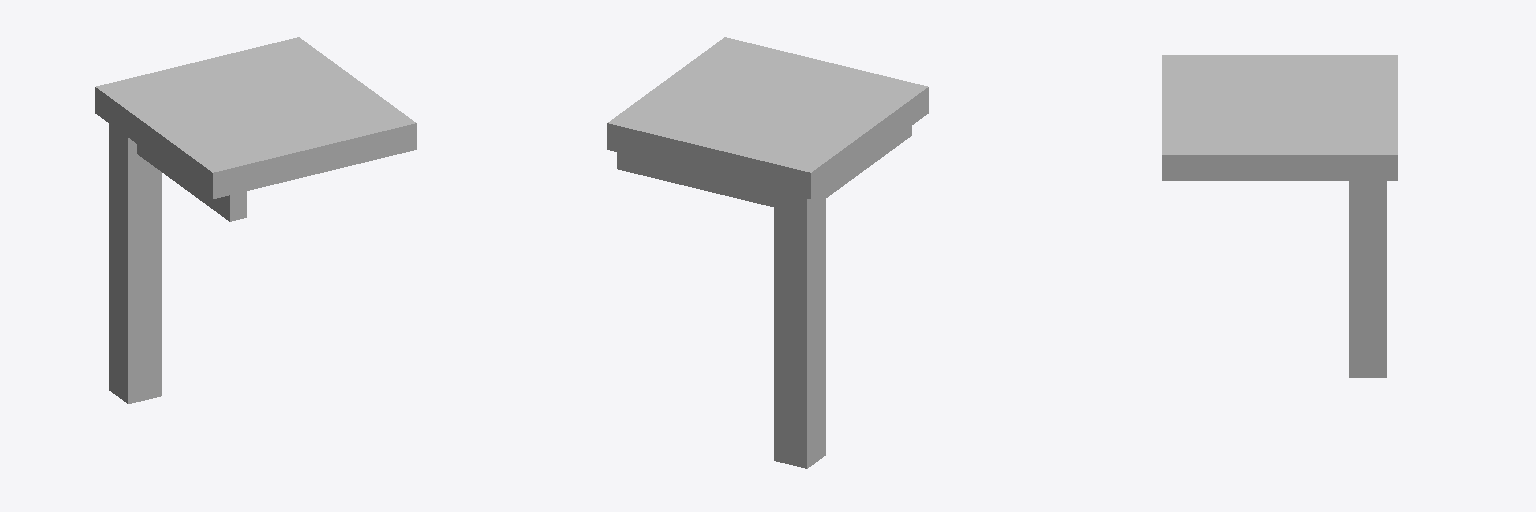
The model's file is pcity_nodes_table_corner.obj.
The picture shows the model from 3 angles: view 1: azimuth 30°, elevation 25°; view 2: azimuth 150°, elevation 25°; view 3: azimuth 270°, elevation 25°; orthographic projection.
Parts seen in each view (by area): view 1: Corner, Leg; view 2: Corner, Leg; view 3: Corner, Leg.
Boxes of the visible parts, x1=… form: Corner: x1=95, y1=37, x2=416, y2=221; Leg: x1=109, y1=124, x2=161, y2=403; Corner: x1=607, y1=37, x2=928, y2=206; Leg: x1=774, y1=189, x2=825, y2=468; Corner: x1=1162, y1=55, x2=1397, y2=207; Leg: x1=1349, y1=181, x2=1386, y2=377.
Size of the model in its own units: 1.2 by 1.7 by 1.2.